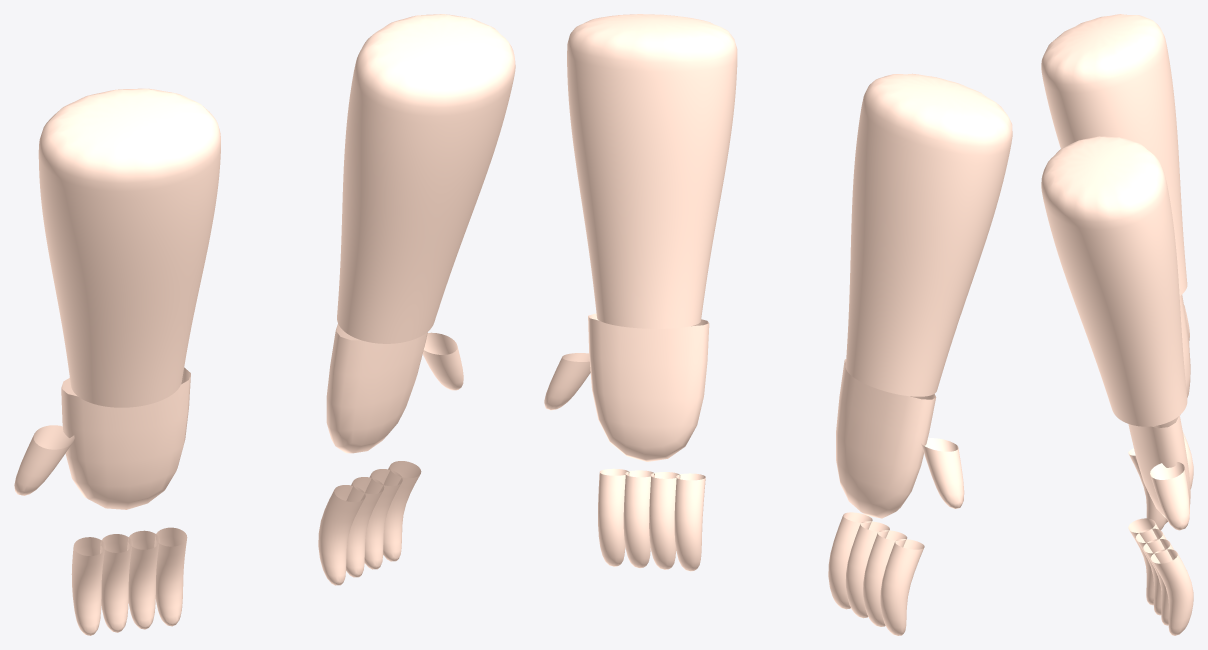
File: fps_arms_v2.glb
3 renders of one model, left to right at view 1: azimuth 30°, elevation 25°; view 2: azimuth 150°, elevation 25°; view 3: azimuth 270°, elevation 25°, orthographic. The views are drawn at different scales.
Visible parts, largest first — view 1: Arm_R, Arm_L; view 2: Arm_L, Arm_R; view 3: Arm_L, Arm_R.
Boxes of the visible parts, <box> form: Arm_R: <box>14,88,220,635</box>; Arm_L: <box>318,14,515,585</box>; Arm_L: <box>544,14,737,571</box>; Arm_R: <box>828,73,1012,635</box>; Arm_L: <box>1041,136,1193,635</box>; Arm_R: <box>1041,14,1193,530</box>.
Size of the model in its own units: 0.3859 by 0.4447 by 0.1282.
